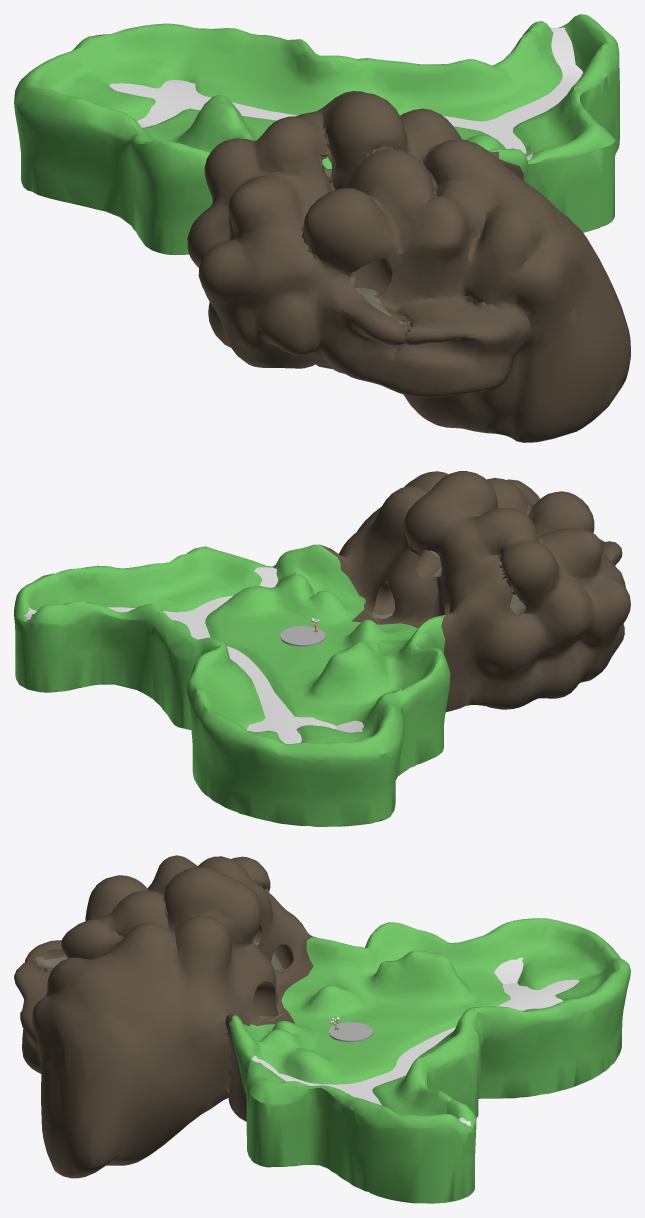
File: exterior.fbx
3 views of the same model, one above another, from view 1: azimuth 30°, elevation 25°; view 2: azimuth 150°, elevation 25°; view 3: azimuth 270°, elevation 25° (orthographic). The views are drawn at different scales.
Parts seen in each view (by area): view 1: Circle.004, Plane.002; view 2: Circle.004, Plane.002, Circle.002; view 3: Circle.004, Plane.002, Circle.002.
Boxes of the visible parts, x1,y1,x2,y2 form: Circle.004: (14,14,630,442); Plane.002: (109,27,582,163); Circle.004: (14,471,630,826); Plane.002: (24,567,363,743); Circle.002: (280,626,325,646); Circle.004: (14,855,630,1203); Plane.002: (252,957,579,1125); Circle.002: (329,1022,372,1042).
Size of the model in its own units: 42744 by 22938 by 49200.
